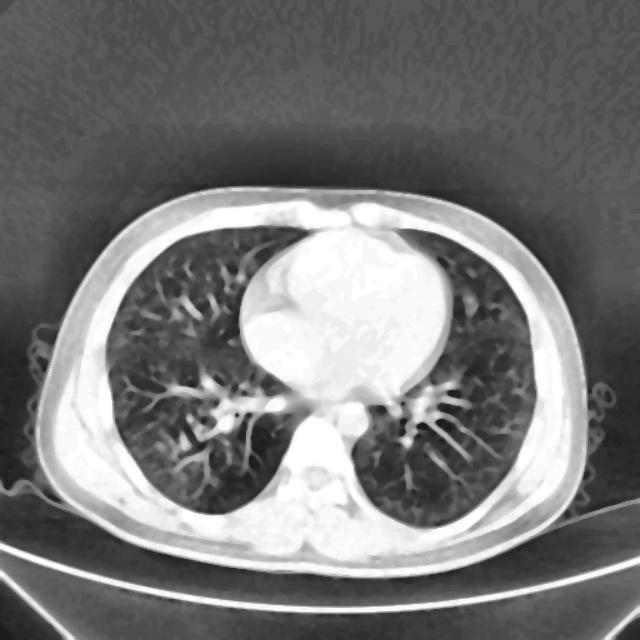covid: (29, 184, 589, 577)
